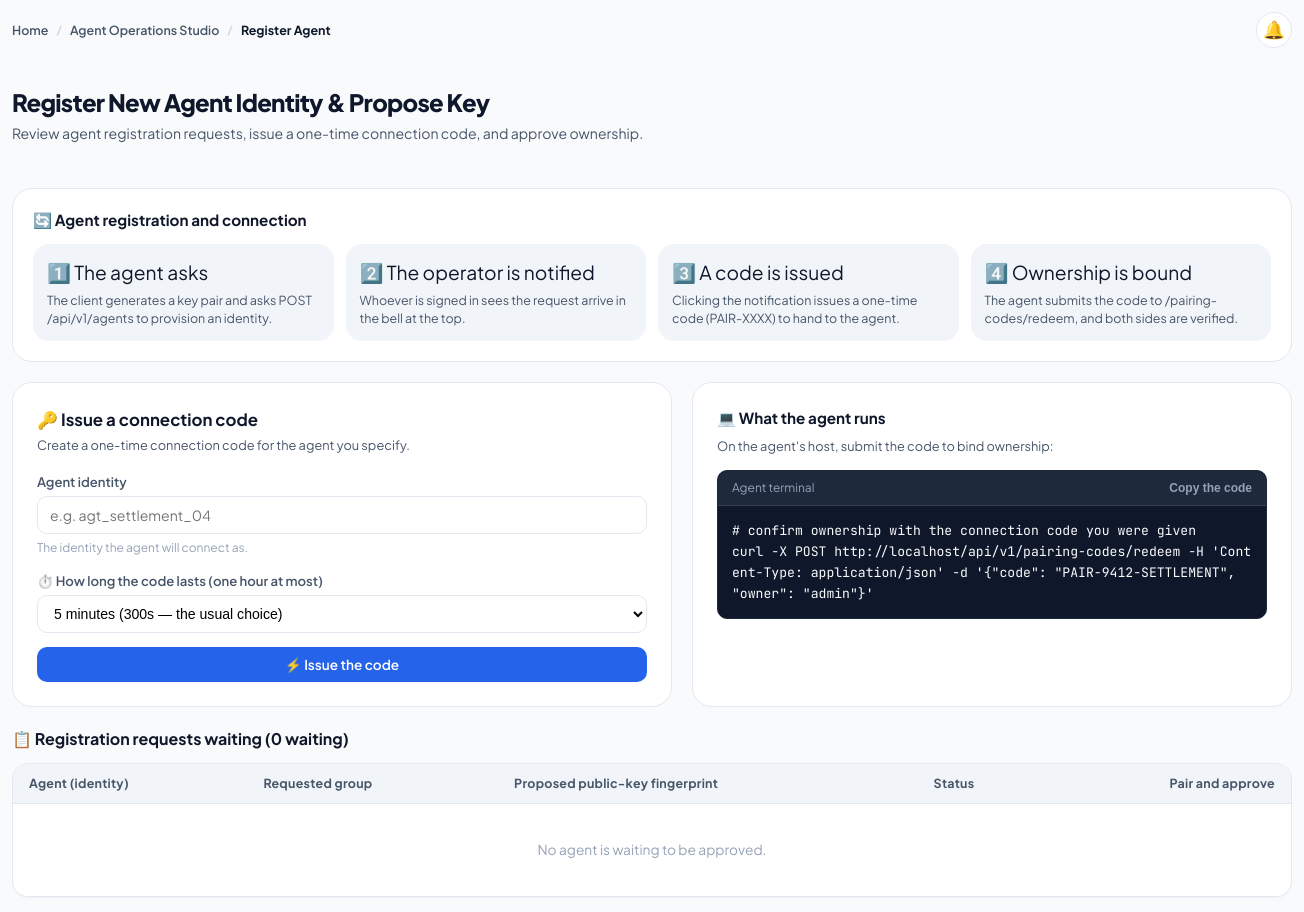
Test: issuing a pairing code › shows the code the server minted, in the panel and in the command
In the field labelled "Agent identity": x=342, y=515 [37, 496, 647, 534], type "agt-ledger-9"
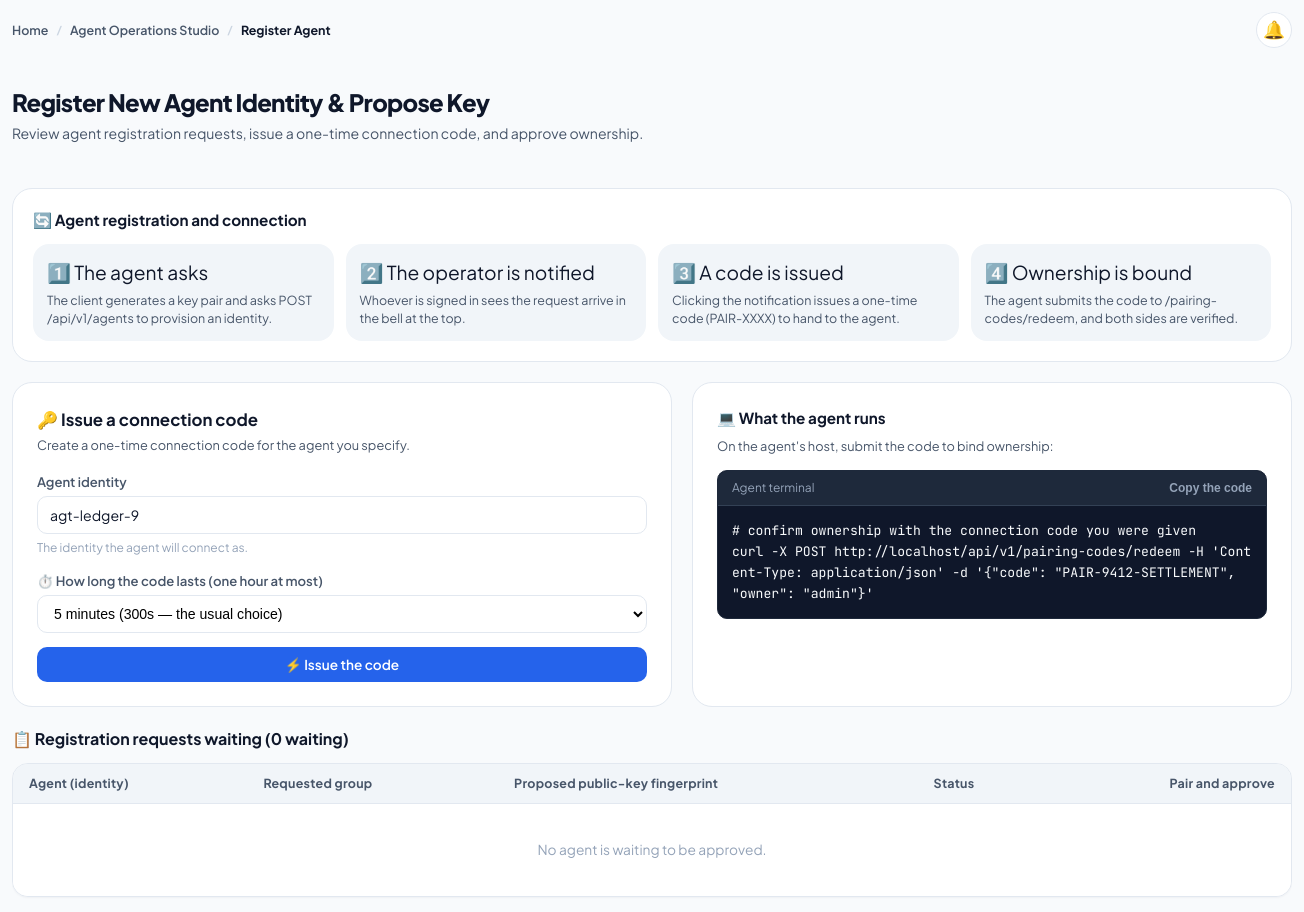
Select "15 minutes (900s — setting up a server)" in the dropdown: x=342, y=614 [37, 595, 647, 633]
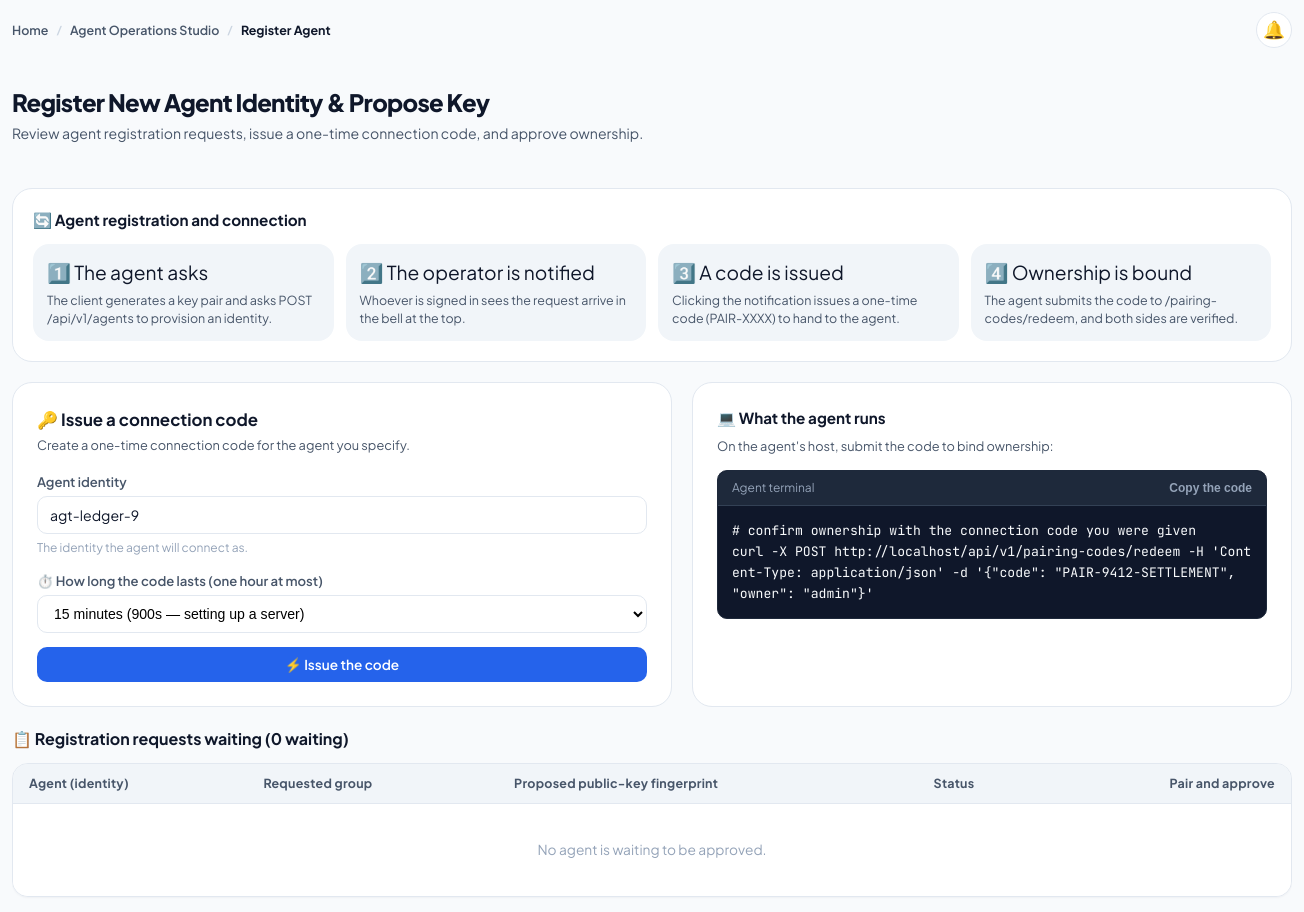
Submit the form labelled "Agent identity", box [37, 472, 647, 682]
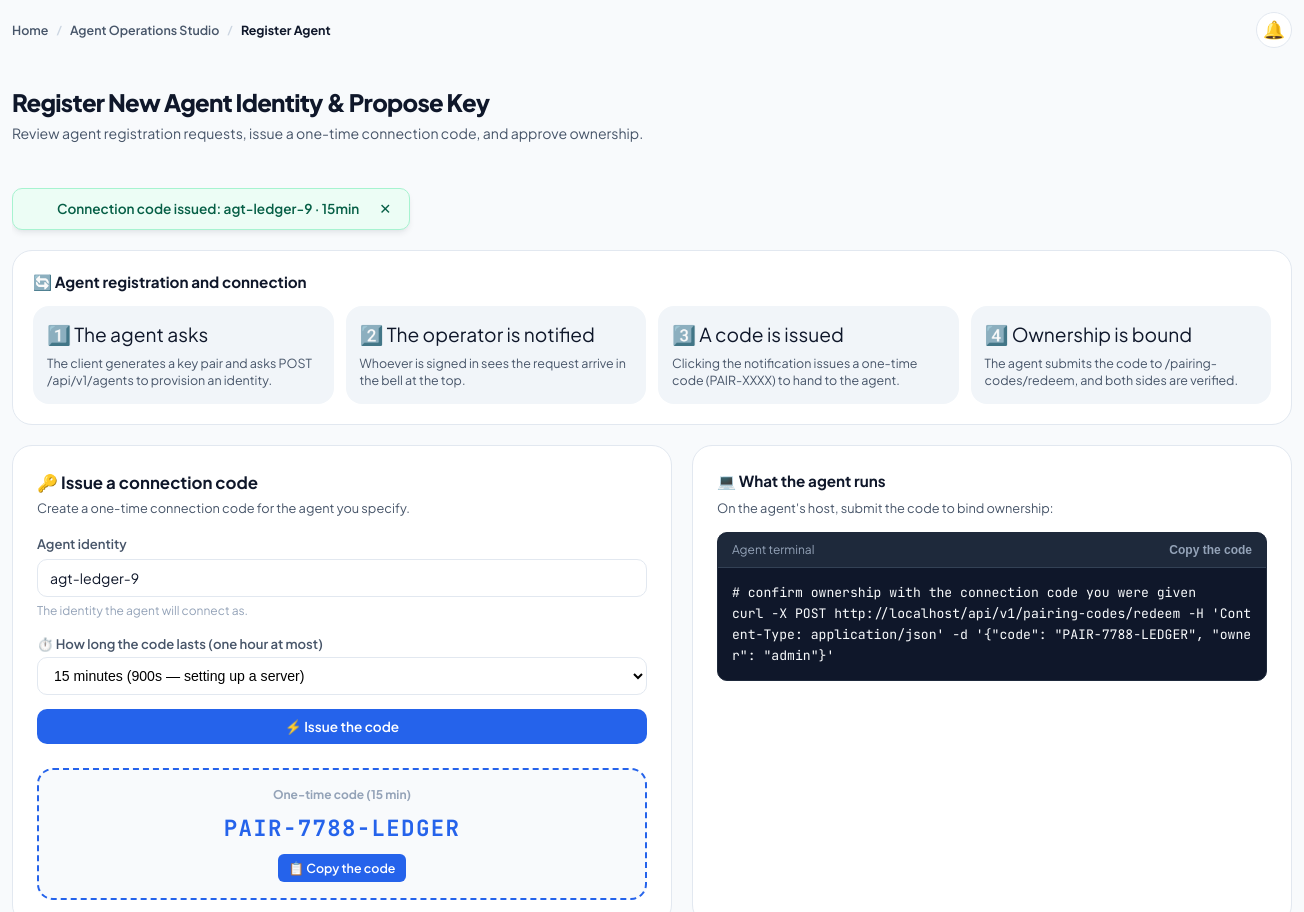
Expected: the text "/api/v1/pairing-codes/redeem" is shown, [732, 584, 1251, 664]
Expected: the text "PAIR-7788-LEDGER" is shown, [224, 813, 460, 843]
Click the button "✕": x=385, y=209 [377, 199, 393, 219]
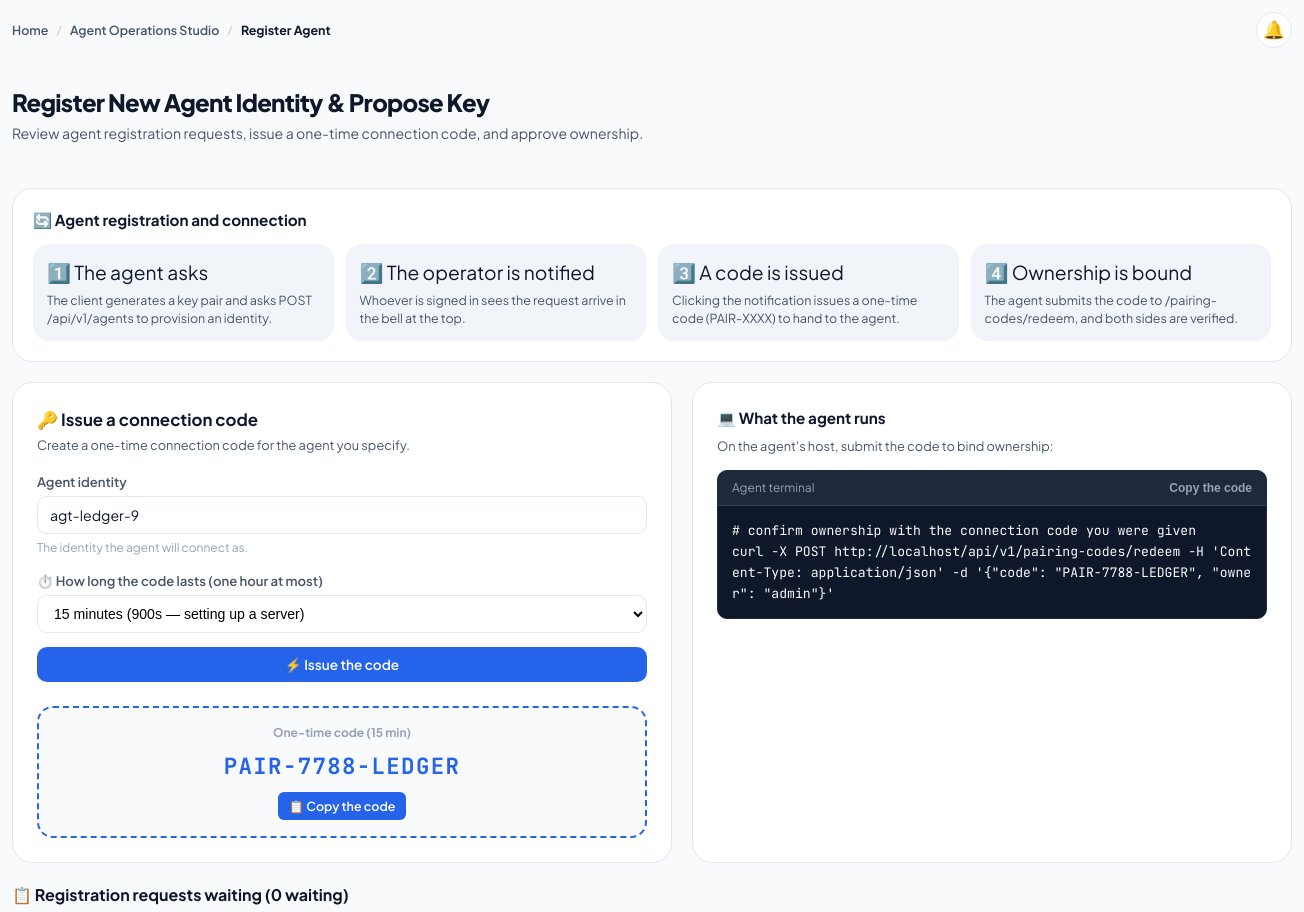
Expected: the text "PAIR-7788-LEDGER" is shown, [224, 751, 460, 781]
Expected: the element with test id "pairing-code-issued" is gone
